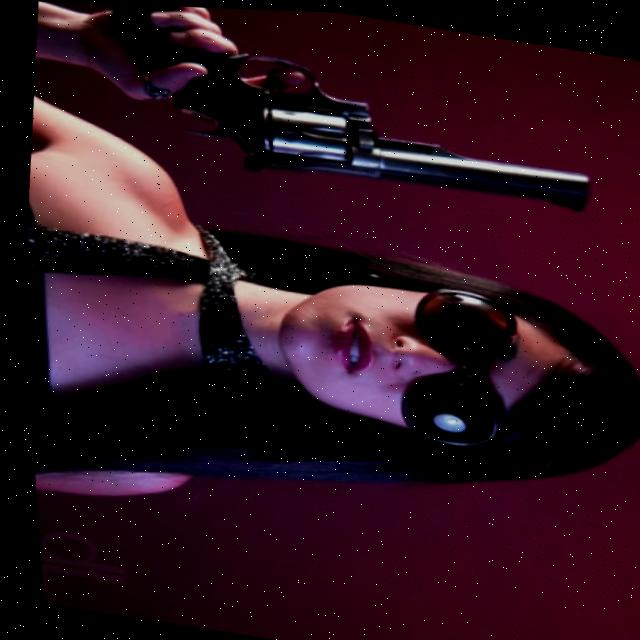pistol: (163, 38, 606, 224)
